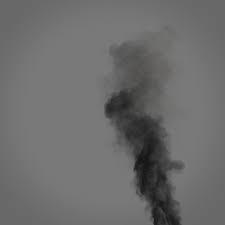smoke: (102, 27, 174, 176), (133, 177, 181, 225)
